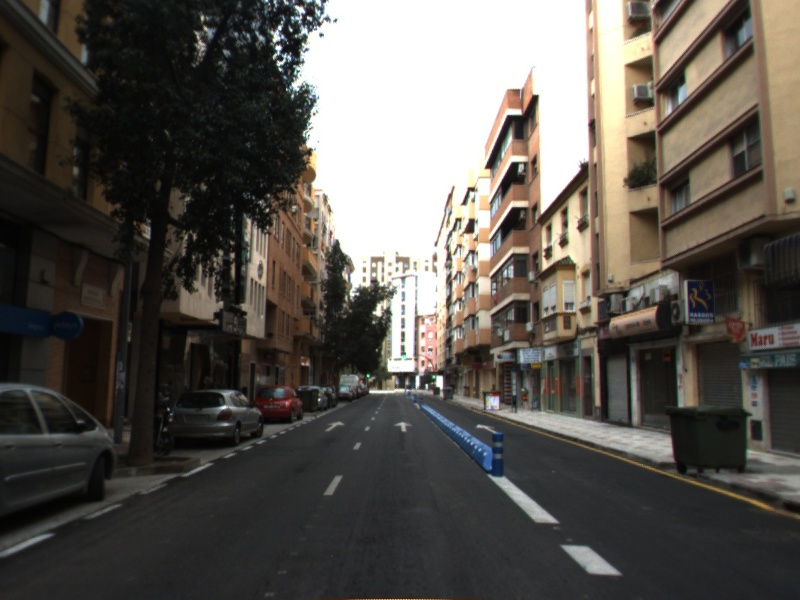STRAIGHT: (474, 422, 499, 435), (323, 420, 346, 433), (393, 420, 414, 433)
